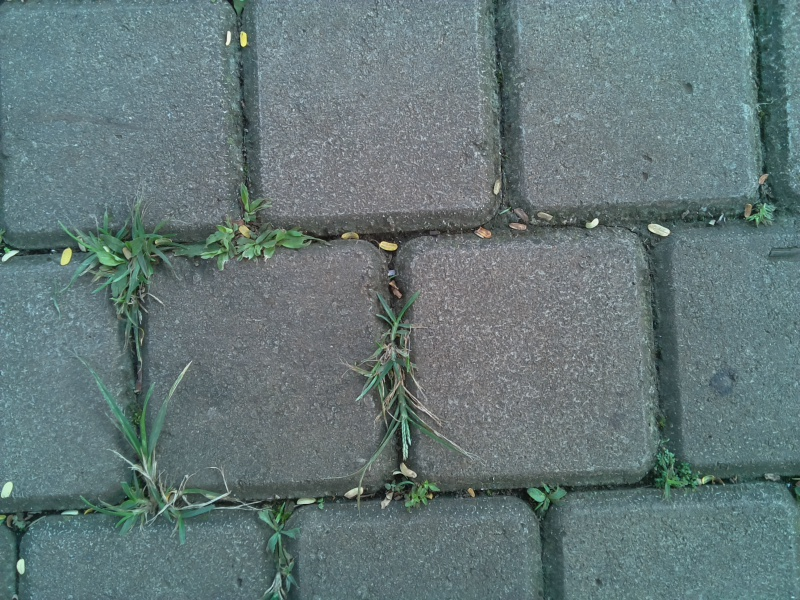Weed: (86, 362, 213, 533), (70, 201, 184, 331), (358, 296, 441, 450), (193, 189, 315, 270), (255, 503, 303, 598), (649, 436, 708, 494), (379, 474, 443, 515), (525, 482, 568, 520), (743, 198, 781, 228)
